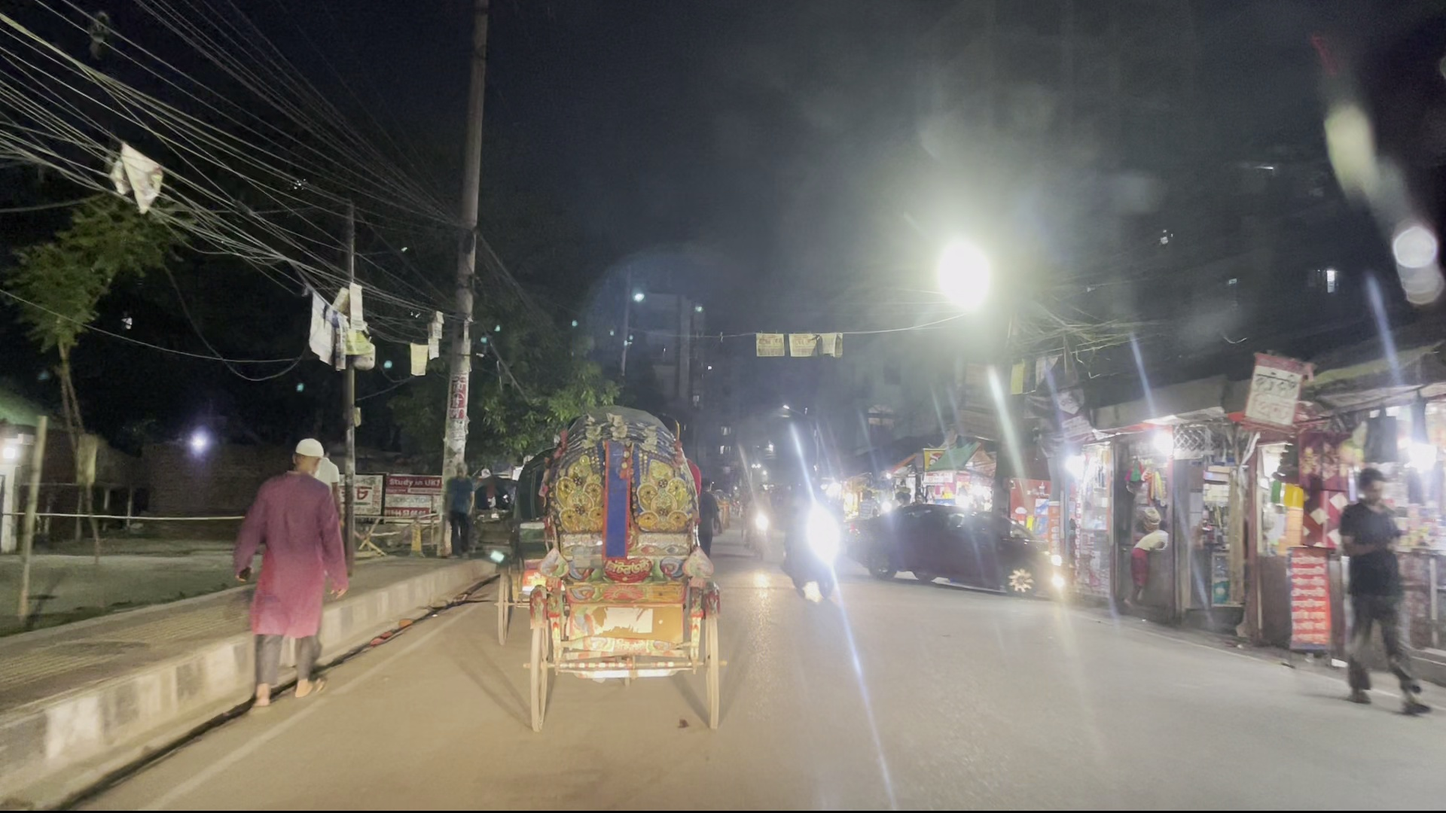car: (851, 496, 1072, 610)
person: (236, 437, 344, 711), (1327, 462, 1436, 719), (444, 461, 477, 564)
